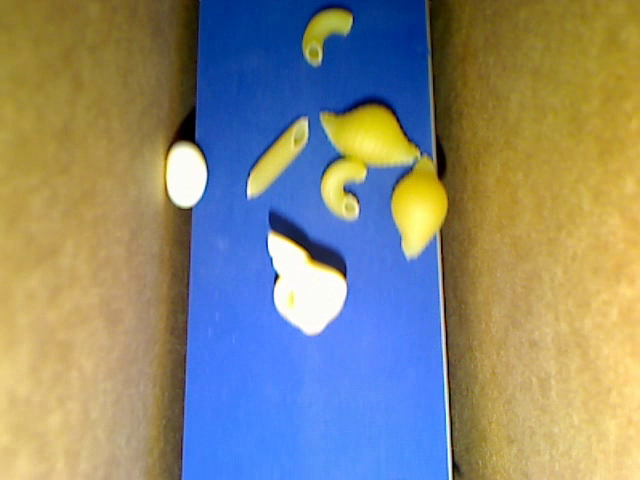elbow: (321, 156, 368, 221), (300, 10, 352, 66)
penne: (245, 115, 309, 200)
shell: (318, 103, 421, 168), (390, 148, 448, 261)
